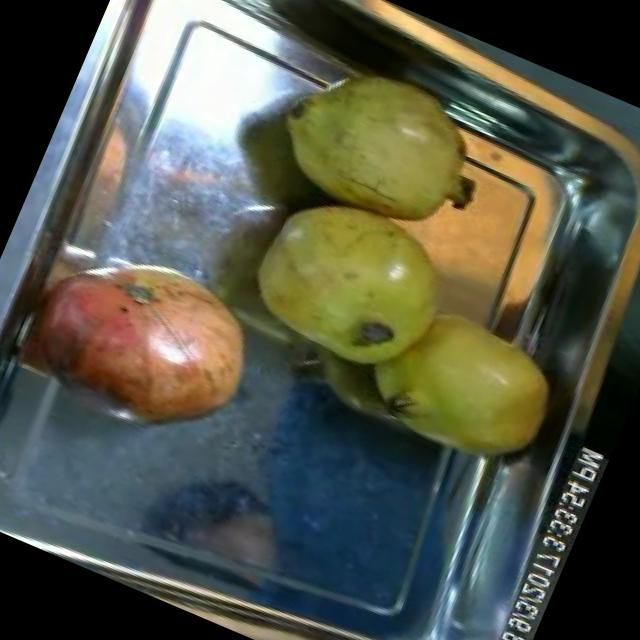fruit: (0, 217, 287, 469), (218, 170, 480, 404), (250, 33, 510, 258), (342, 274, 580, 490)
